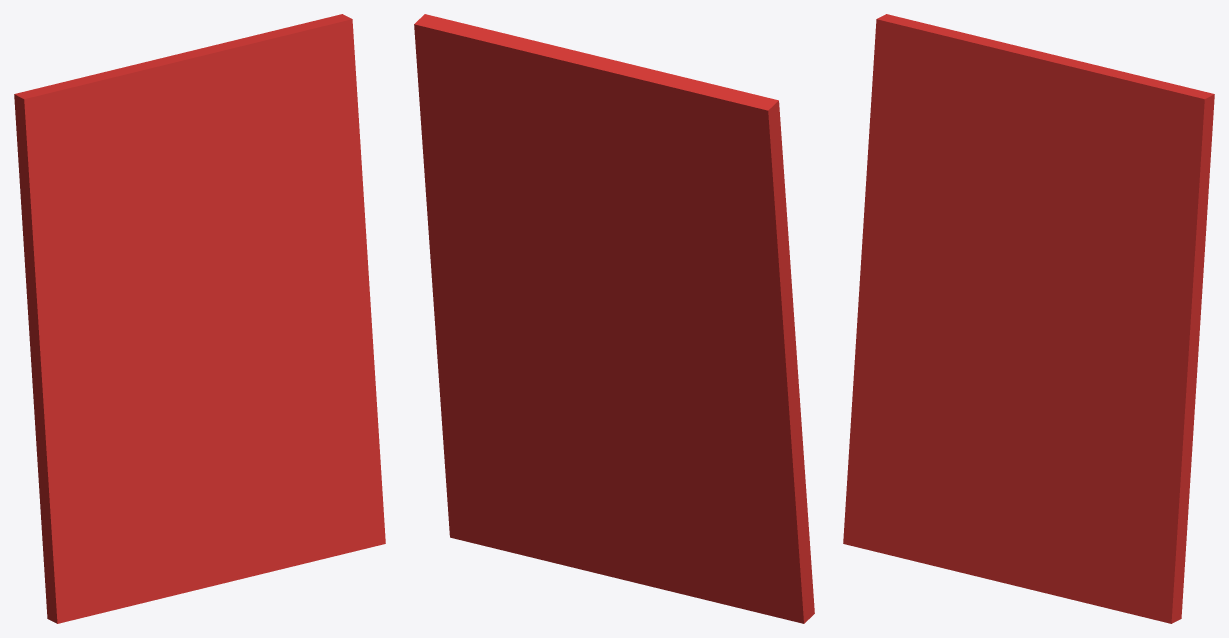
Rendered from outfit-superheroCape.glb.
The picture shows the model from 3 angles, left to right: view 1: azimuth 30°, elevation 25°; view 2: azimuth 150°, elevation 25°; view 3: azimuth 330°, elevation 25°; orthographic projection. The views are drawn at different scales.
Parts seen in each view (by area): view 1: cape; view 2: cape; view 3: cape.
Boxes of the visible parts, <box> form: cape: <box>14,14,385,623</box>; cape: <box>414,14,814,623</box>; cape: <box>843,14,1214,623</box>.
Bounding box in the file's own units: 0.75 × 1.1 × 0.1714.
